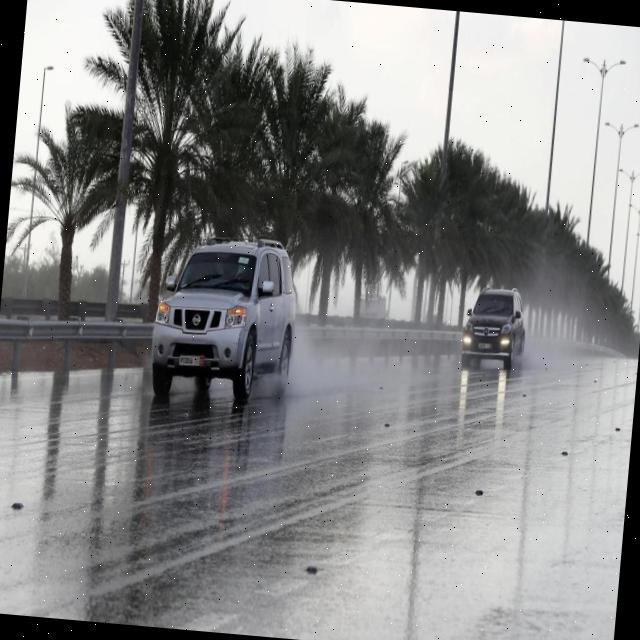car: (146, 224, 306, 416), (462, 286, 526, 364)
